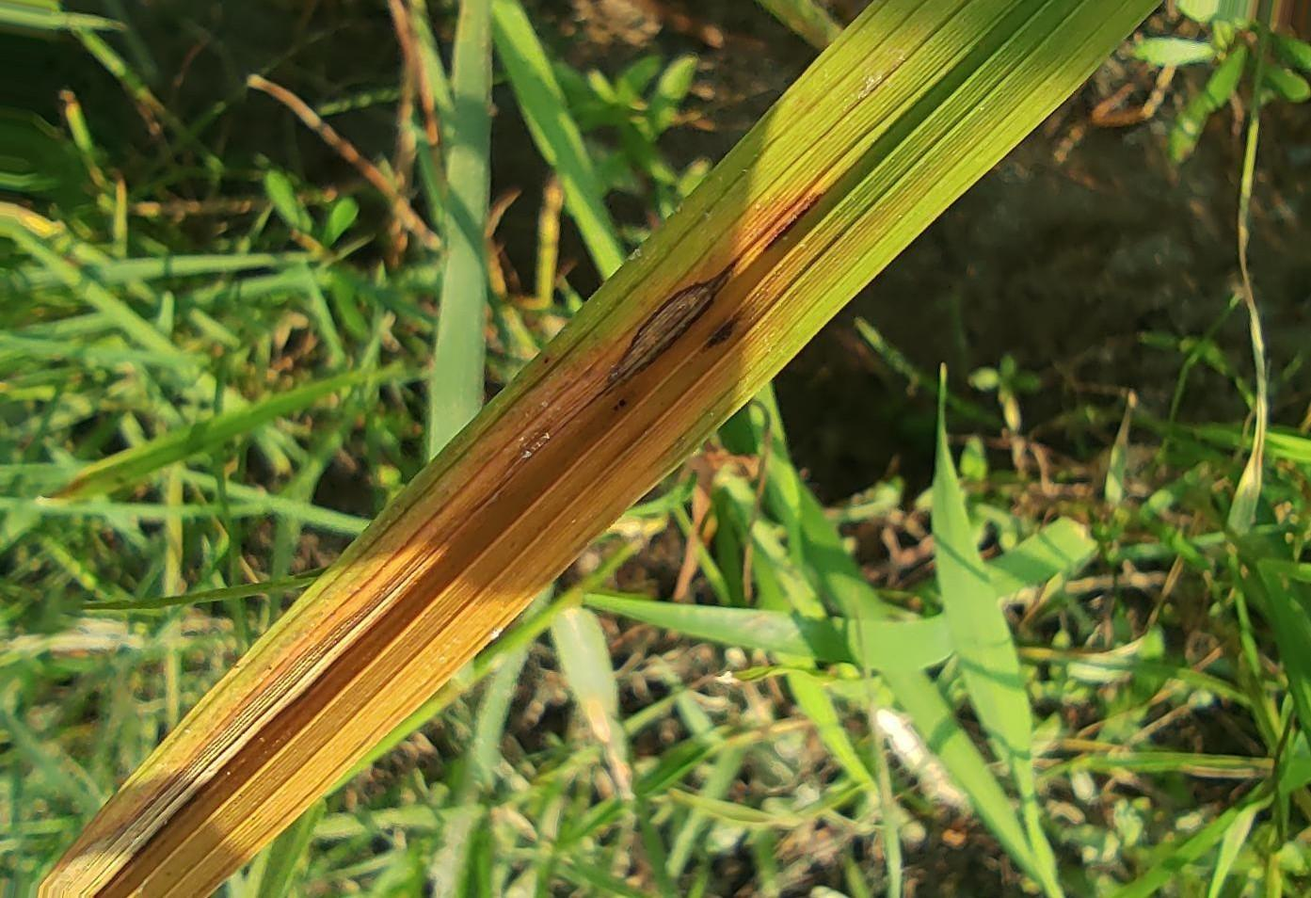LEAF: (38, 0, 1150, 897)
LEAF BLAST: (609, 269, 727, 383)
